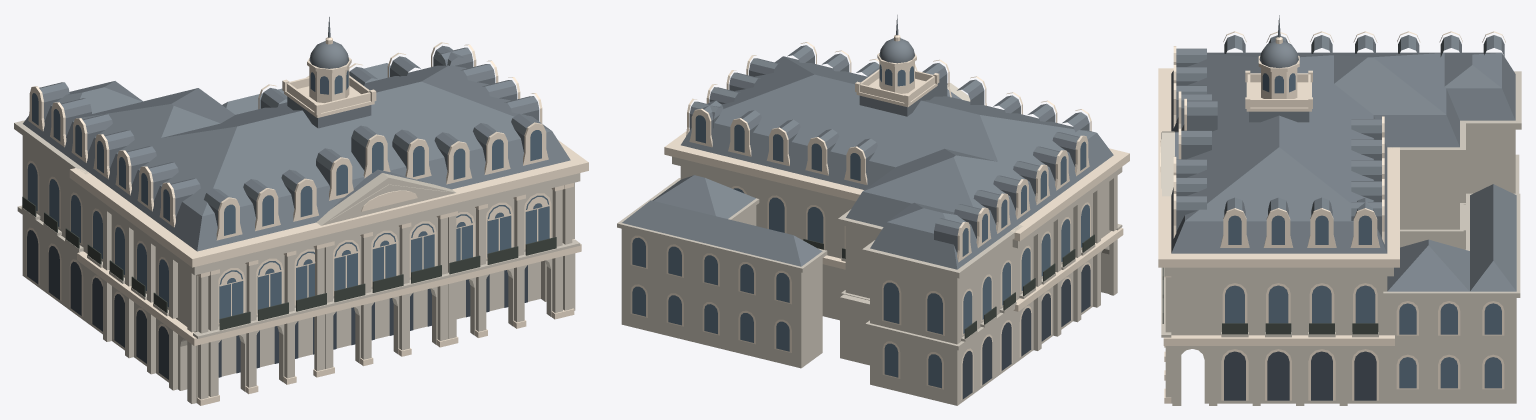
The model's file is nola-cabildo.glb.
The picture shows the model from 3 angles, left to right: view 1: azimuth 30°, elevation 25°; view 2: azimuth 150°, elevation 25°; view 3: azimuth 270°, elevation 25°; orthographic projection. The views are drawn at different scales.
Parts seen in each view (by area): view 1: The Cabildo; view 2: The Cabildo; view 3: The Cabildo.
Part boxes in pixels (x1,y1,x2,y2): The Cabildo: [14, 17, 588, 405]; The Cabildo: [617, 15, 1129, 405]; The Cabildo: [1158, 15, 1521, 405].
Size of the model in its own units: 36.6 by 26.8 by 29.45.
